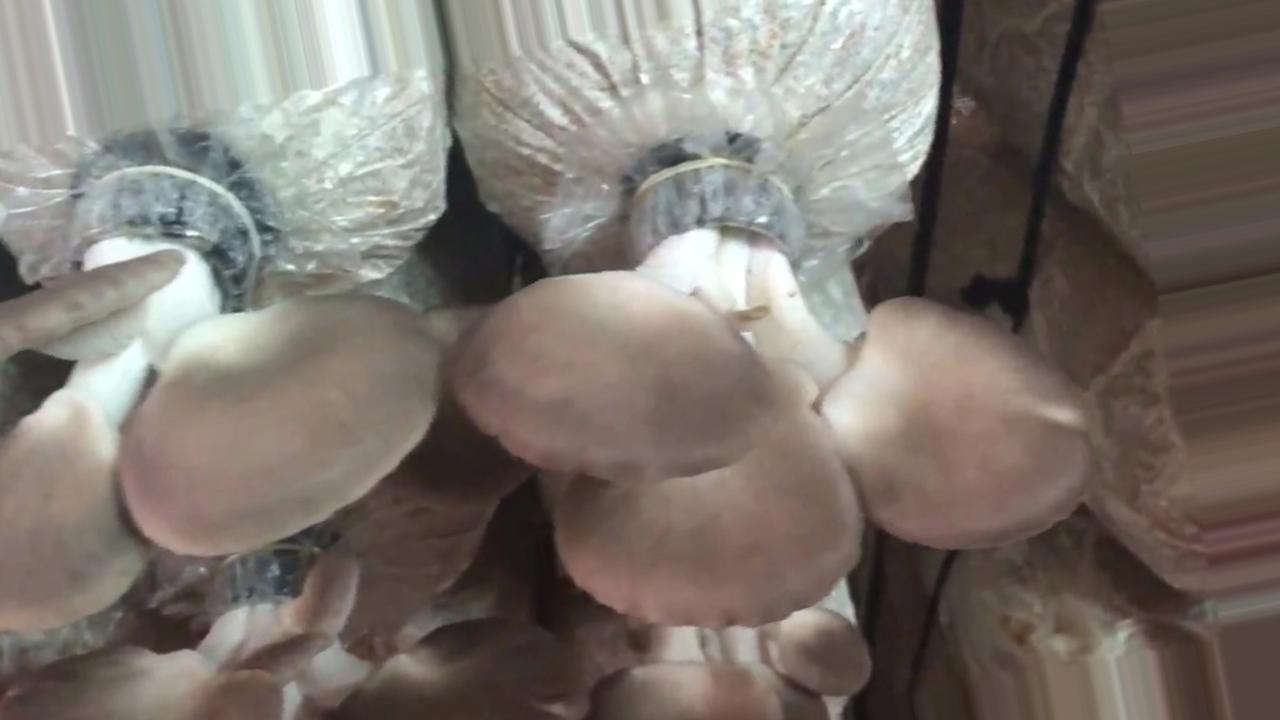nam: (452, 163, 1096, 625), (1, 141, 443, 629), (1, 552, 593, 718), (589, 606, 873, 714)
